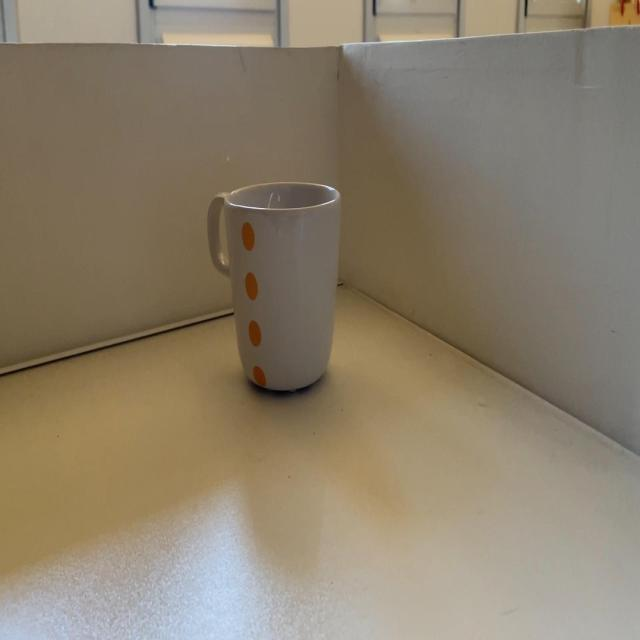cup: (202, 175, 346, 397)
